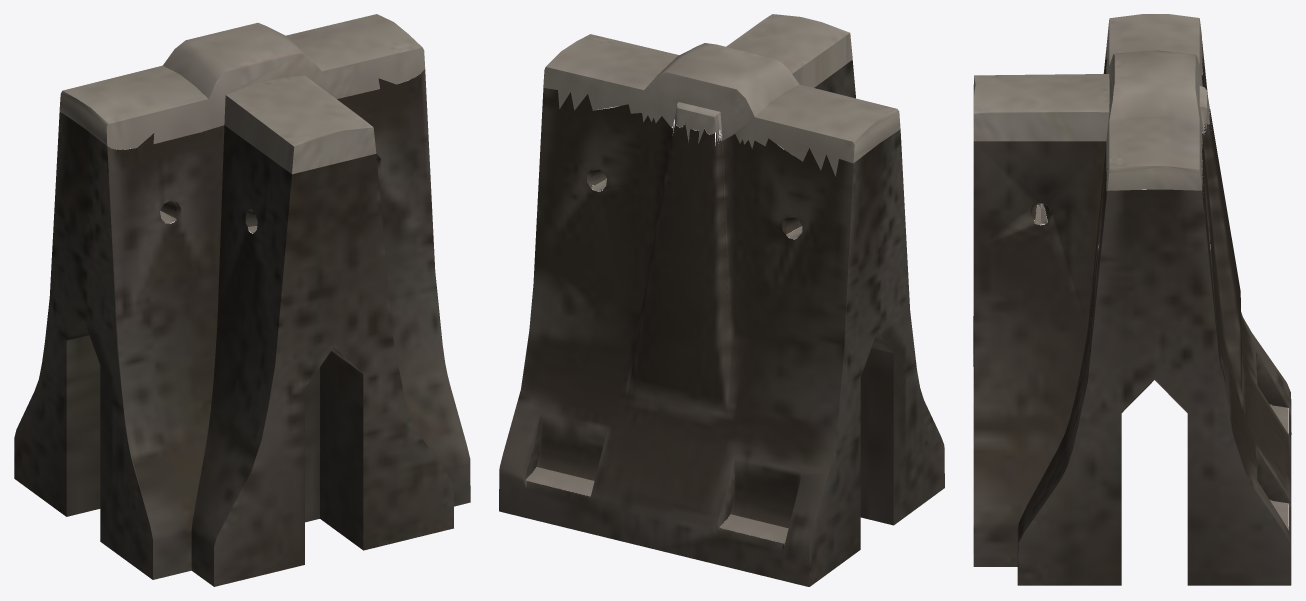
The model's file is stone-wall-esw.glb.
3 views of the same model, side by side, from view 1: azimuth 30°, elevation 25°; view 2: azimuth 150°, elevation 25°; view 3: azimuth 270°, elevation 25° (orthographic). The views are drawn at different scales.
Visible parts, largest first — view 1: body; view 2: body; view 3: body.
Boxes of the visible parts, x1,y1,x2,y2 form: body: (14, 14, 470, 586); body: (499, 14, 944, 586); body: (973, 14, 1291, 585).
Bounding box in the file's own units: 0.9921 × 1.32 × 0.8642.
1 material, 1 textured.
